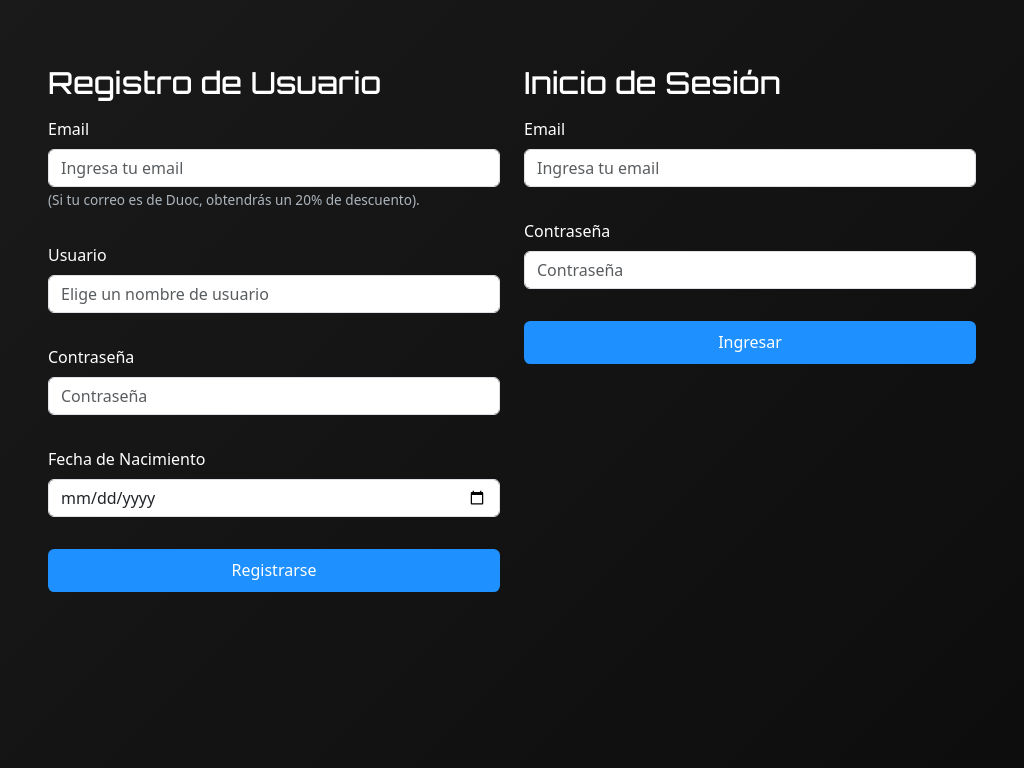
Componente: Login › registro exitoso muestra mensaje success
Type "a@b.com" into the field with test id "reg-email-input".
click(274, 168); type("a@b.com")  # box [48,148,500,186]
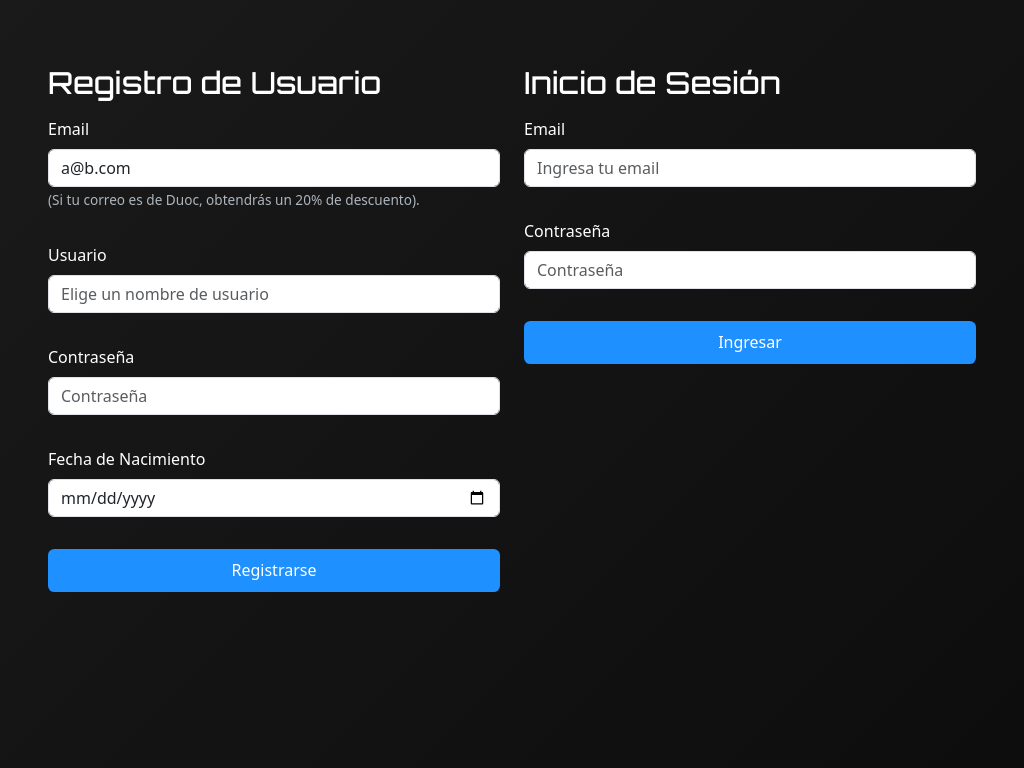
Type "user" into the field with test id "reg-user-input".
click(274, 294); type("user")  # box [48,274,500,312]
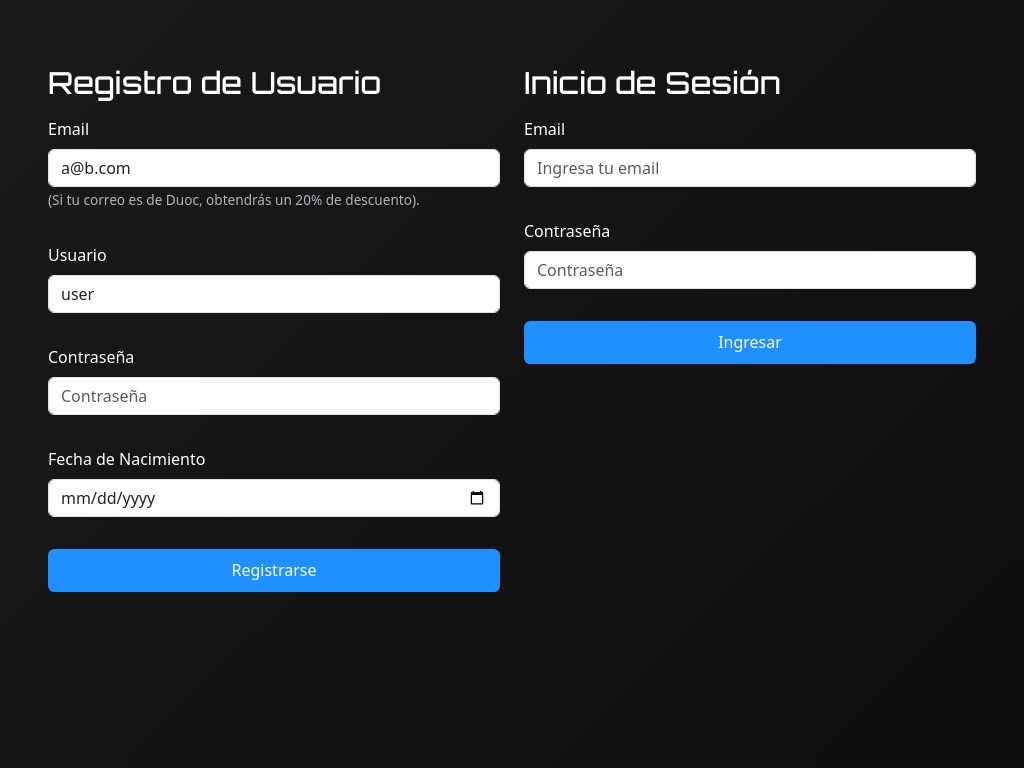
Type "123456" into the password field with test id "reg-password-input".
click(274, 396); type("123456")  # box [48,376,500,414]
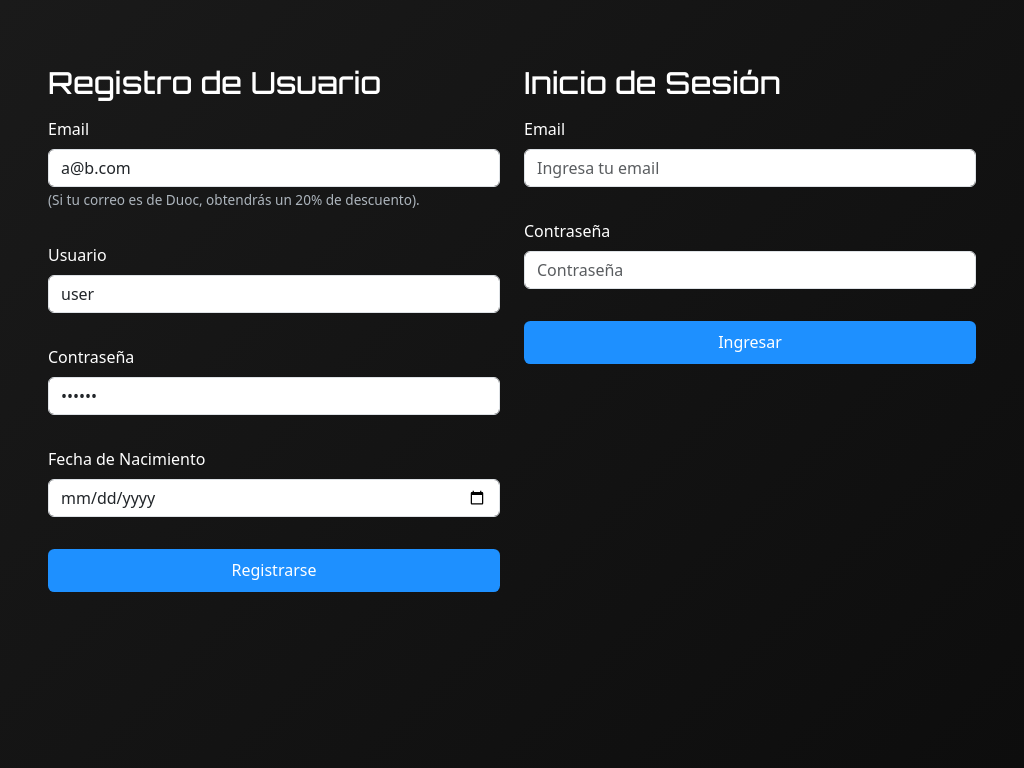
Type "2000-01-01" into the date field with test id "reg-dob-input".
click(274, 498); type("2000-01-01")  # box [48,478,500,516]
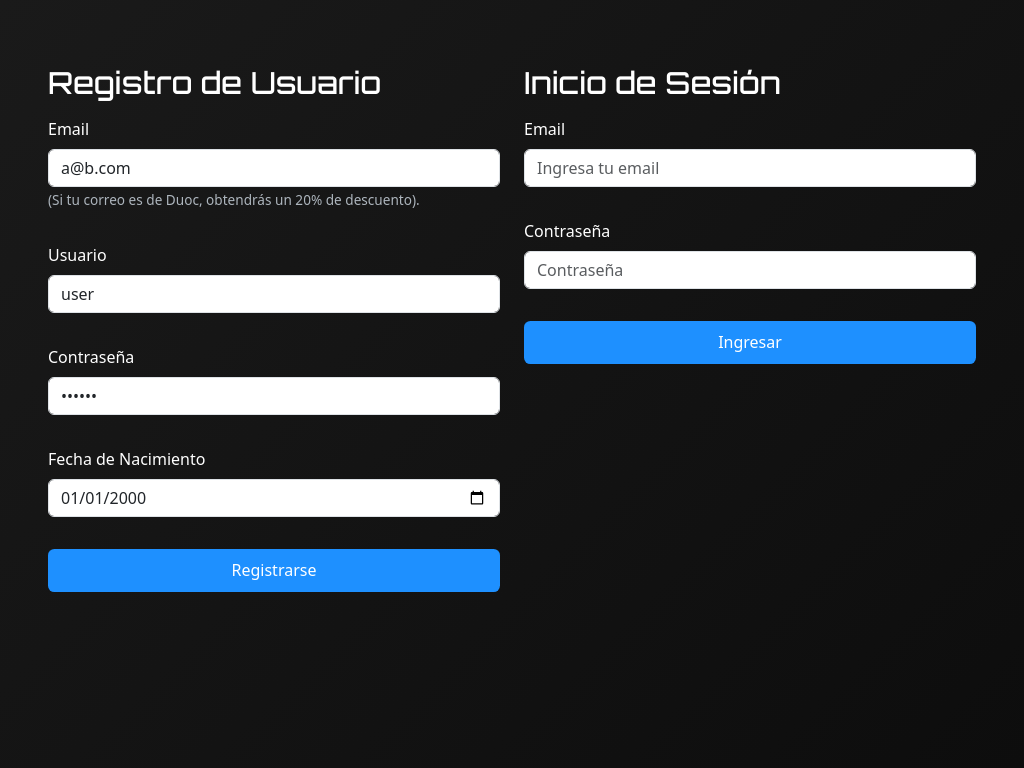
Submit the form with test id "register-form", box [48,116,500,592]
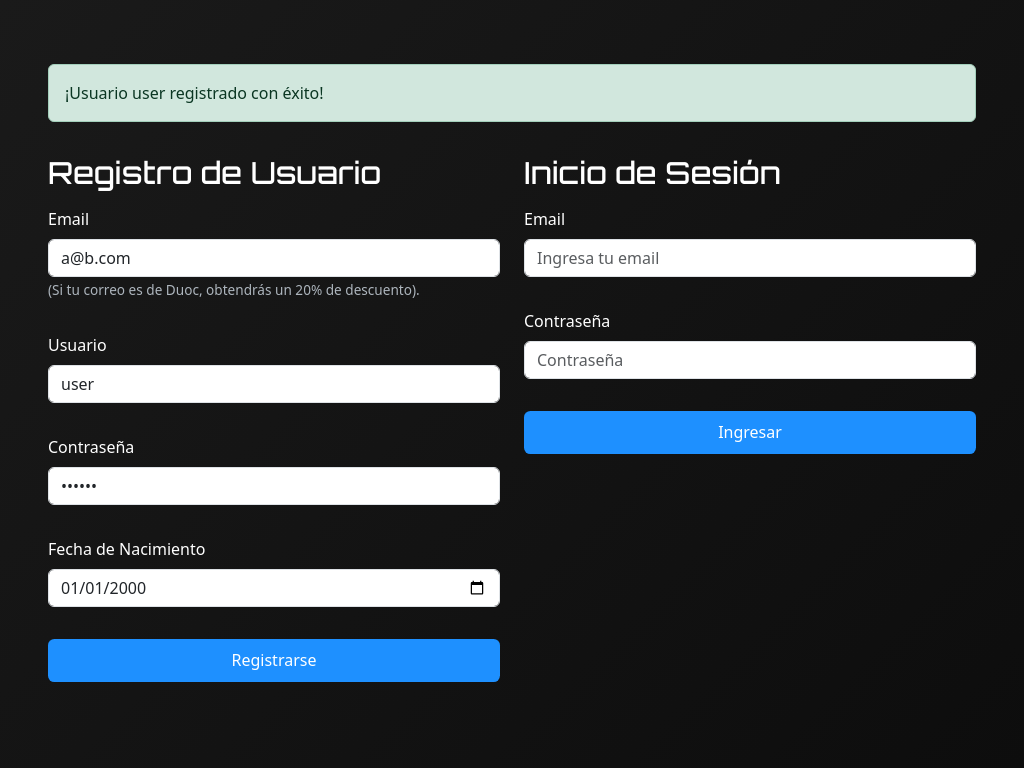
expect the message with test id "message-alert" shows "registrado con éxito": met, box [65,82,324,104]
